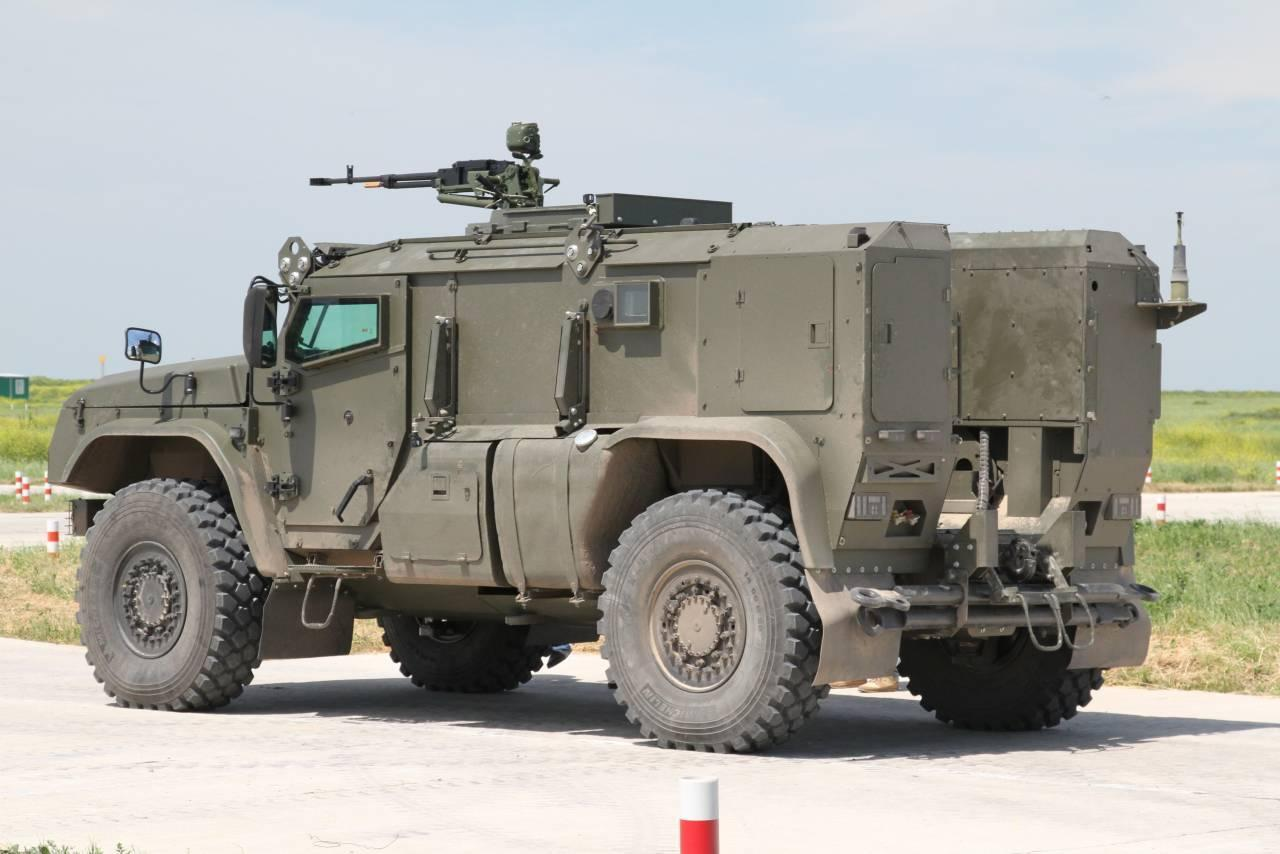armored_car: (63, 199, 1171, 723)
